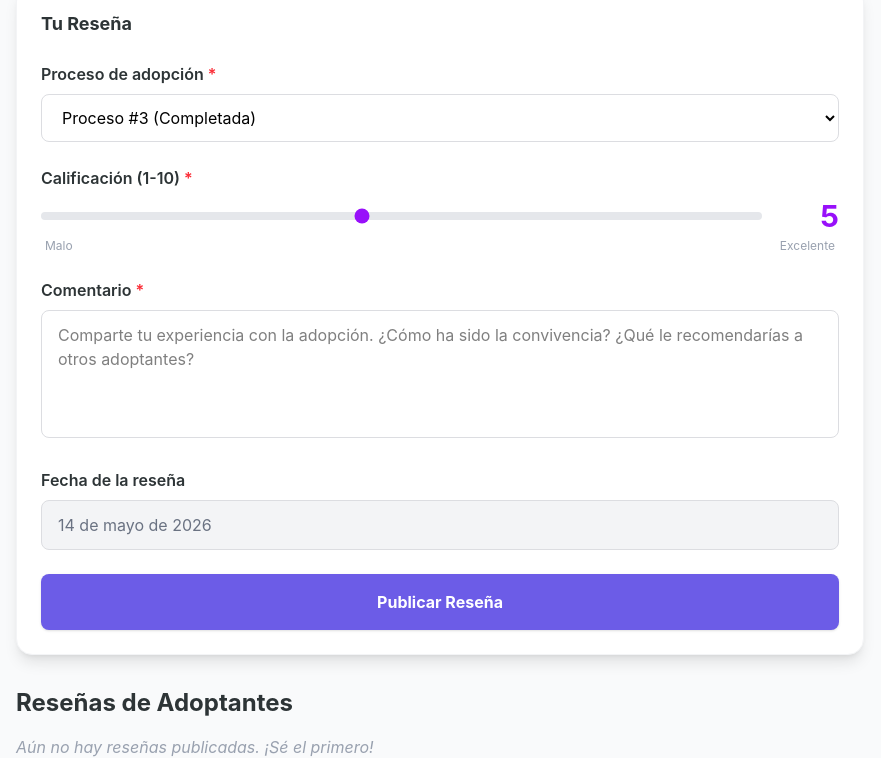
Test case: CreateReviewScreen – Integration Tests › shows error message when the API POST fails
(page scrolled)
In the text box labelled "Comentario *": (440,374) top-left (41, 310), bottom-right (839, 438), type "Mi reseña"
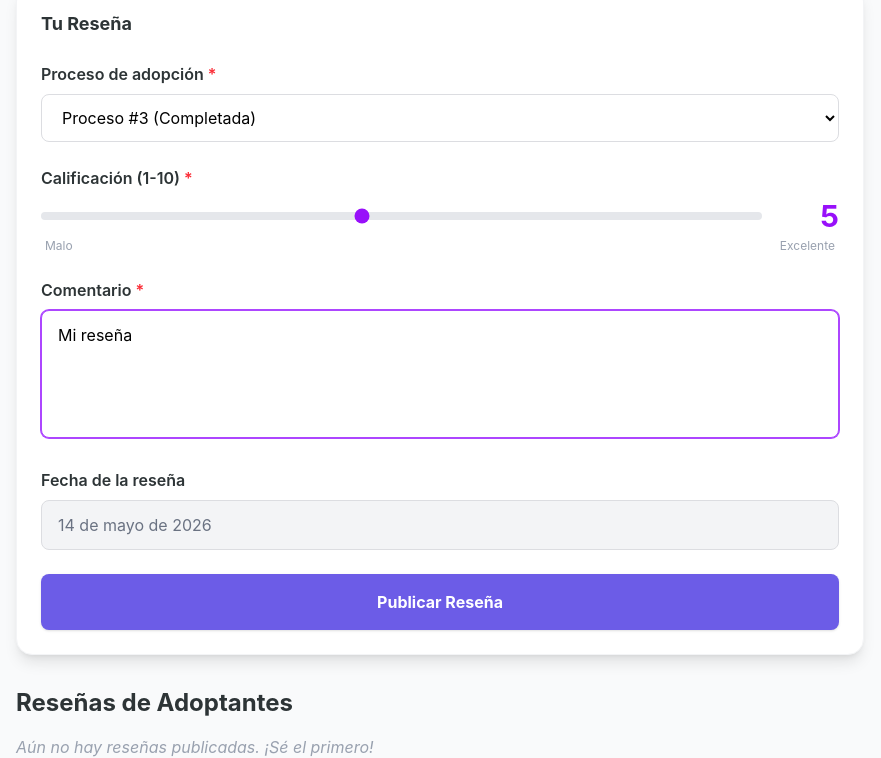
Click the button "Publicar Reseña": (440,602) top-left (41, 574), bottom-right (839, 630)
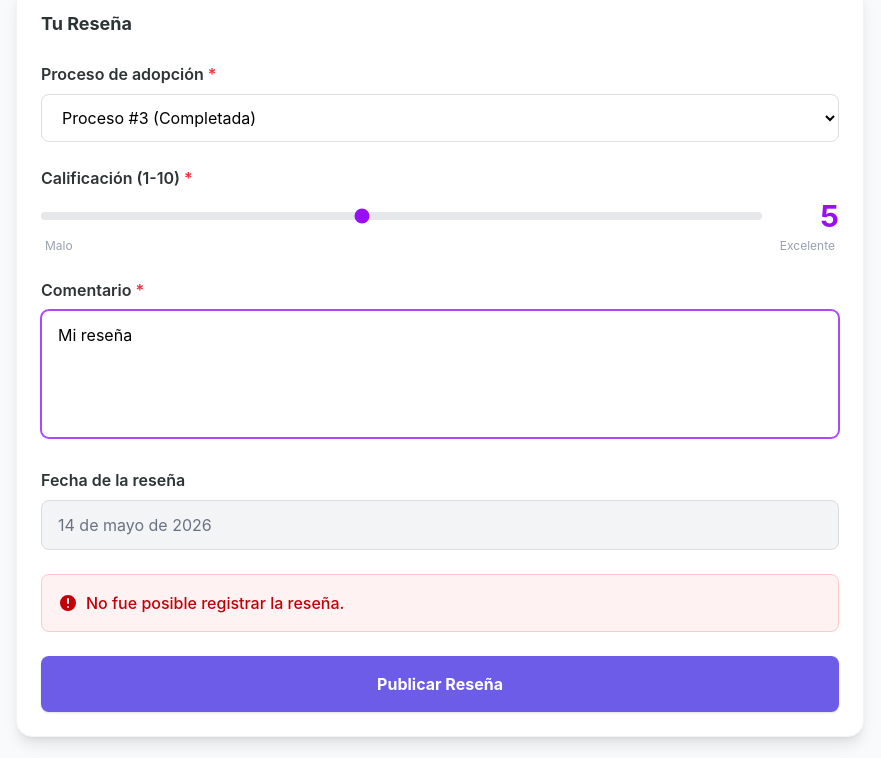
Check: the text "No fue posible registrar la reseña." is shown, box top-left (41, 574), bottom-right (839, 632)
